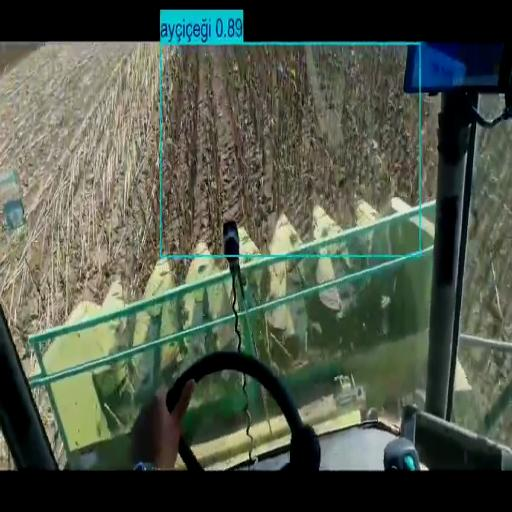ayc: (163, 47, 418, 249)
